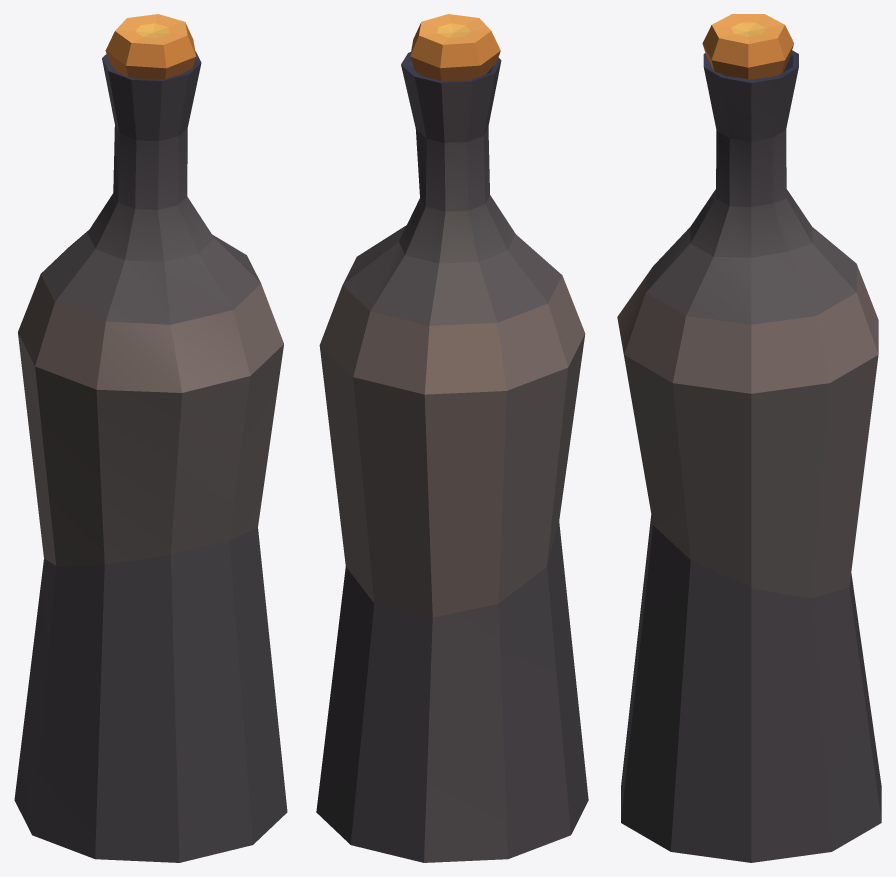
The model's file is bottle_III.fbx.
The picture shows the model from 3 angles, left to right: view 1: azimuth 30°, elevation 25°; view 2: azimuth 150°, elevation 25°; view 3: azimuth 270°, elevation 25°; orthographic projection.
Parts seen in each view (by area): view 1: bottle; view 2: bottle; view 3: bottle.
Part boxes in pixels (x1=…): bottle: x1=14, y1=14, x2=287, y2=862; bottle: x1=316, y1=14, x2=588, y2=862; bottle: x1=617, y1=14, x2=881, y2=862.
Bounding box in the file's own units: 8.28 × 25.87 × 7.98.
